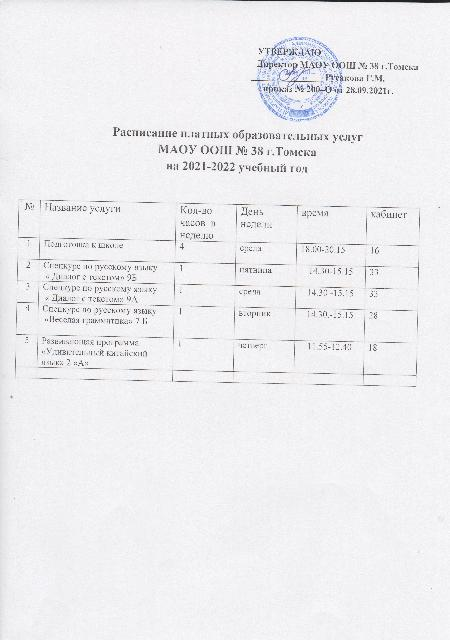stamp: (257, 37, 343, 123)
